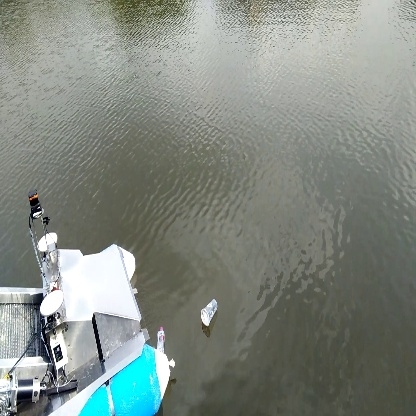bottle: (200, 297, 221, 329)
